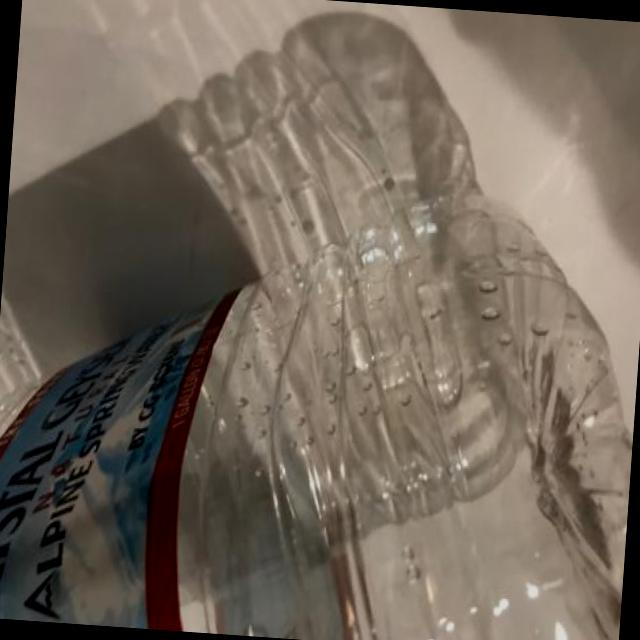bottle: (0, 15, 631, 639), (0, 293, 39, 436)
plastic: (199, 18, 627, 639)
